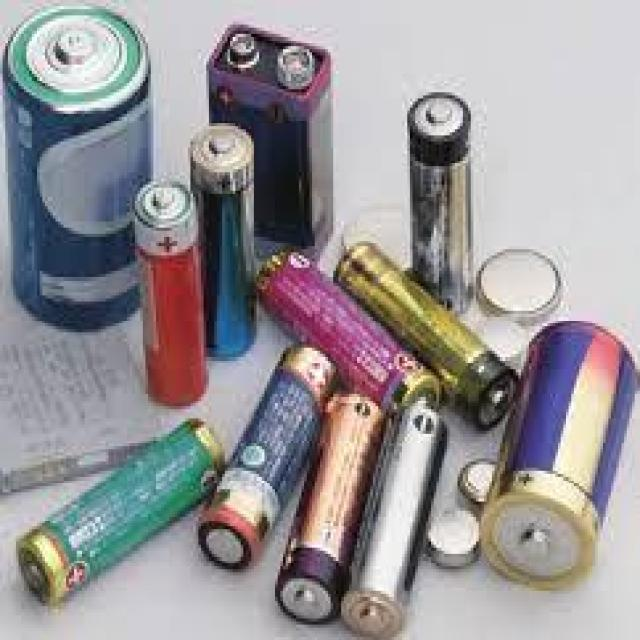AA: (12, 413, 231, 615), (195, 339, 343, 579), (252, 238, 444, 418), (273, 390, 390, 629), (340, 402, 454, 637), (134, 173, 214, 412), (188, 121, 258, 364), (407, 88, 477, 318)
COIN: (475, 245, 569, 329)
